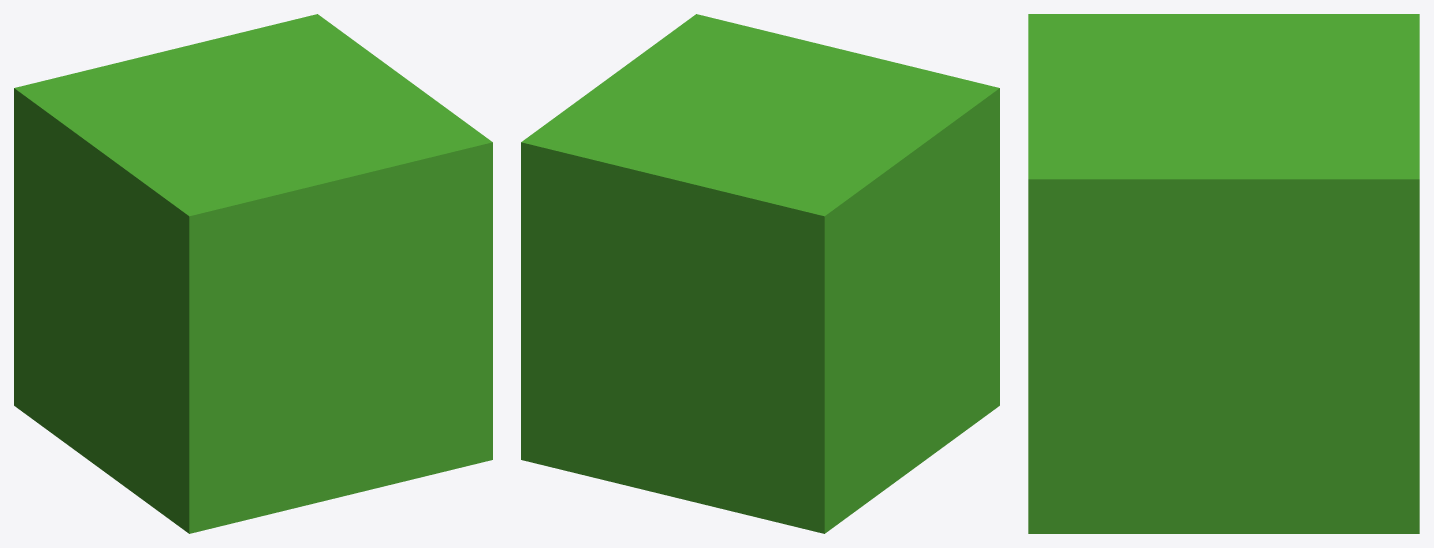
The model's file is level_block_wall.glb.
3 renders of one model, left to right at view 1: azimuth 30°, elevation 25°; view 2: azimuth 150°, elevation 25°; view 3: azimuth 270°, elevation 25°, orthographic. The views are drawn at different scales.
Visible parts, largest first — view 1: Slope, Block; view 2: Block, Slope; view 3: Block.
Boxes of the visible parts, x1,y1,x2,y2 form: Slope: (14, 88, 492, 533); Block: (14, 14, 492, 459); Block: (521, 14, 999, 533); Slope: (521, 88, 999, 533); Block: (1028, 14, 1419, 533).
Size of the model in its own units: 2 by 2 by 2.
2 materials, 2 textured.
